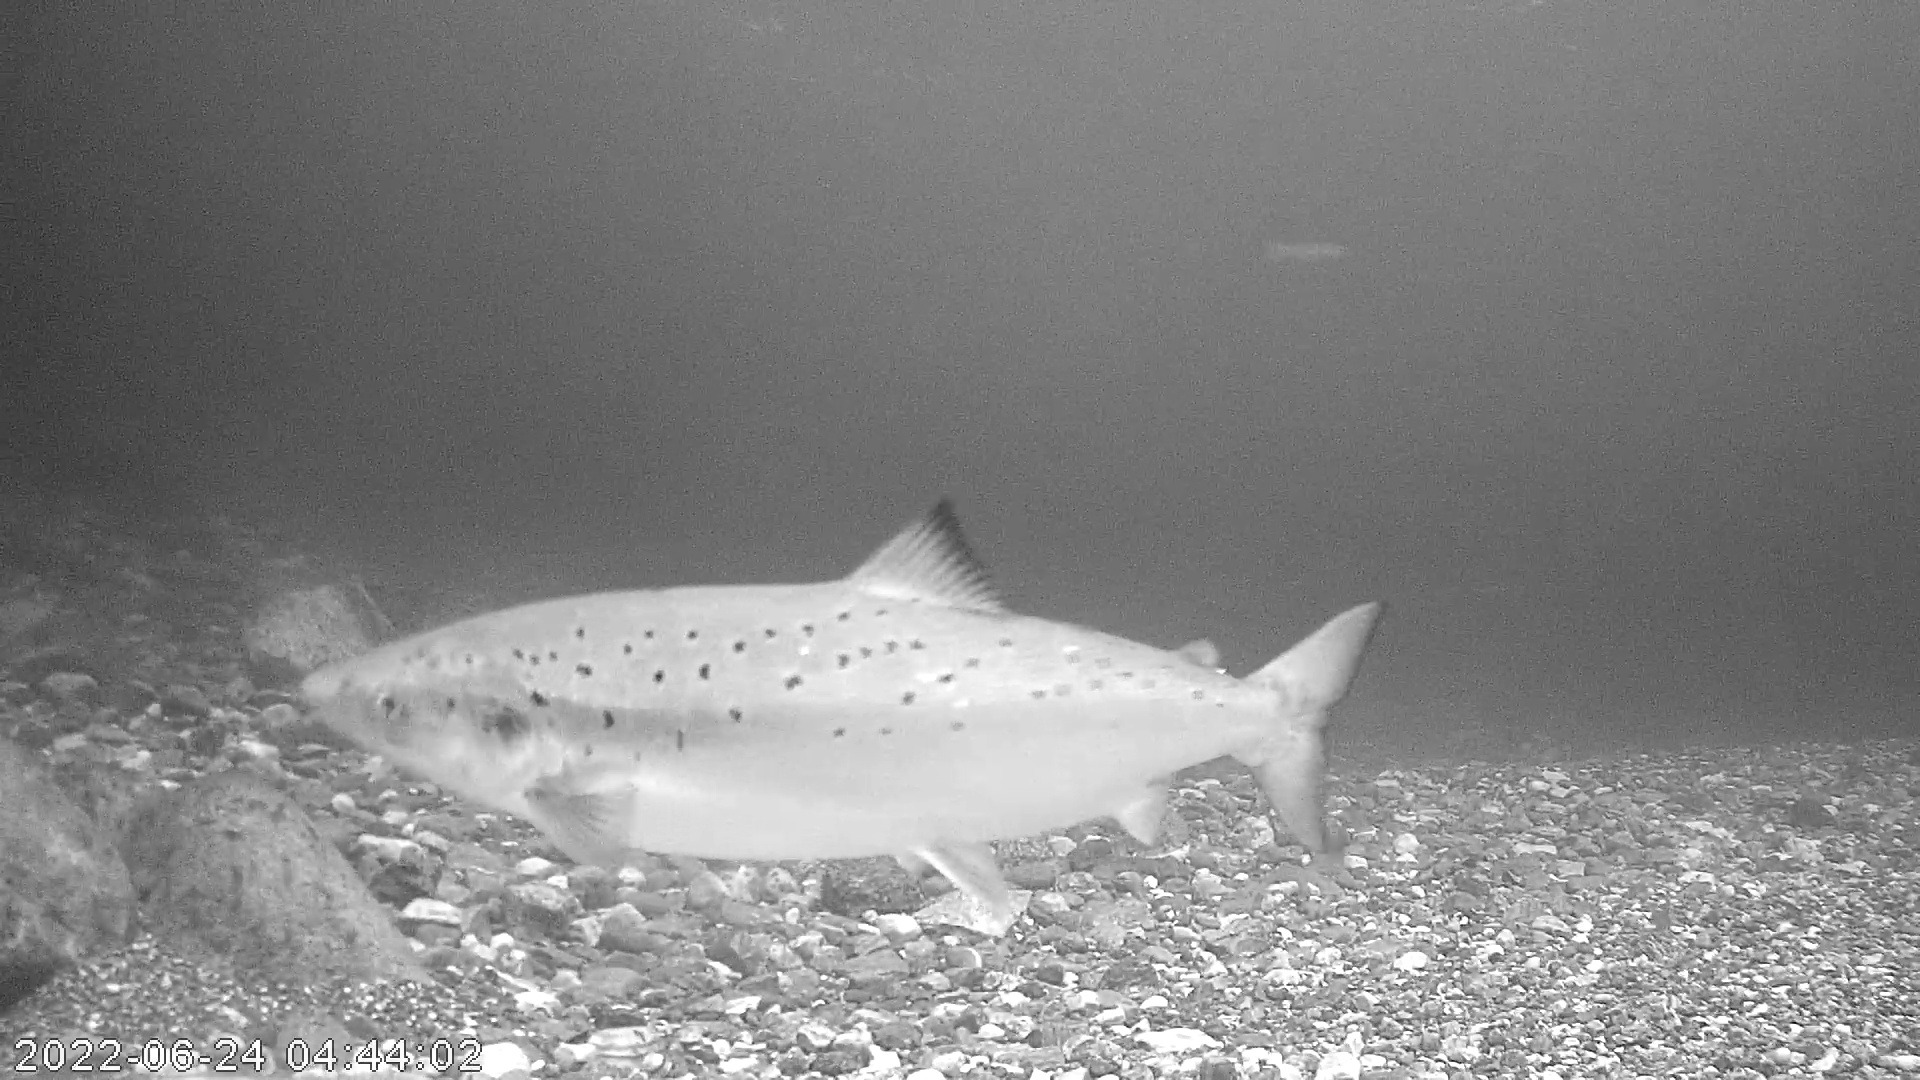salmon: (298, 493, 1389, 918)
